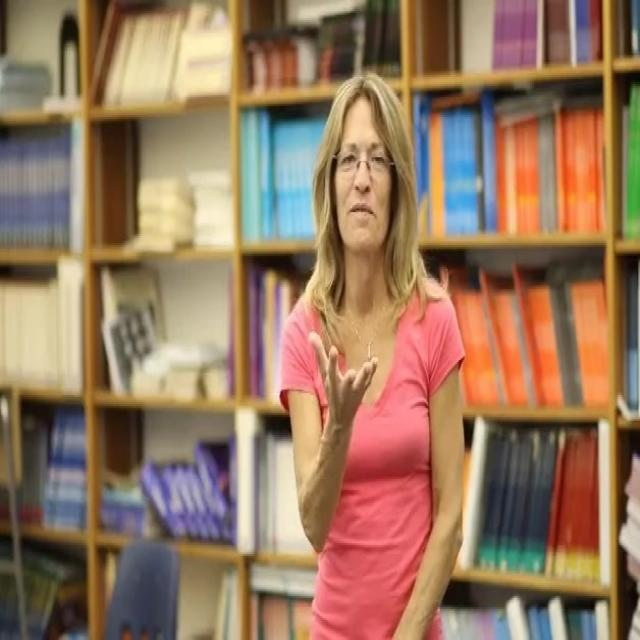warm: (303, 319, 379, 447)
